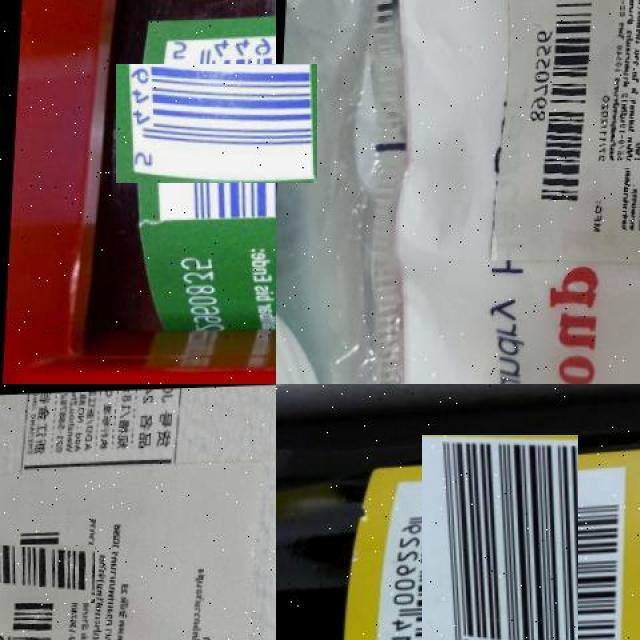Barcode: (398, 460, 603, 640), (136, 43, 296, 204), (522, 0, 598, 211), (0, 528, 77, 622)
